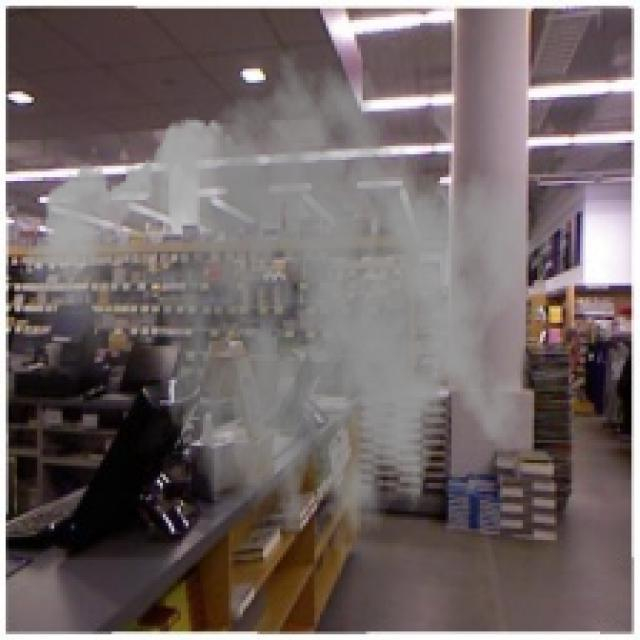Smoke: (17, 48, 537, 594)
